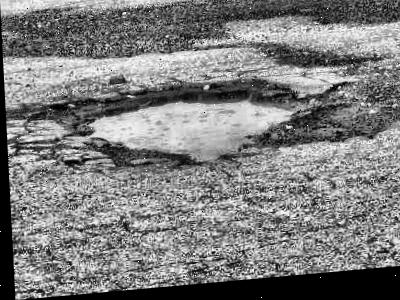pothole: (46, 71, 315, 178)
